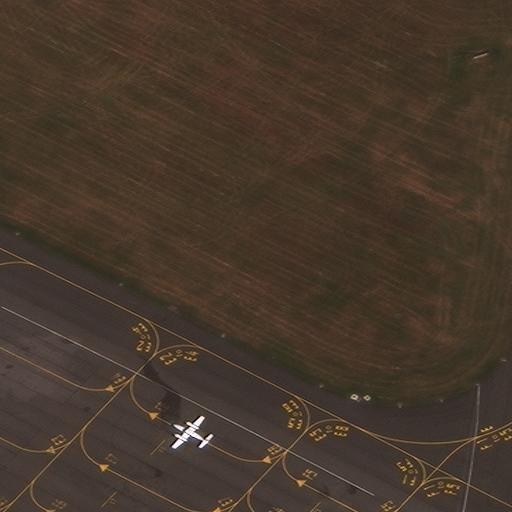Small Civil Transport: (170, 415, 209, 446)
